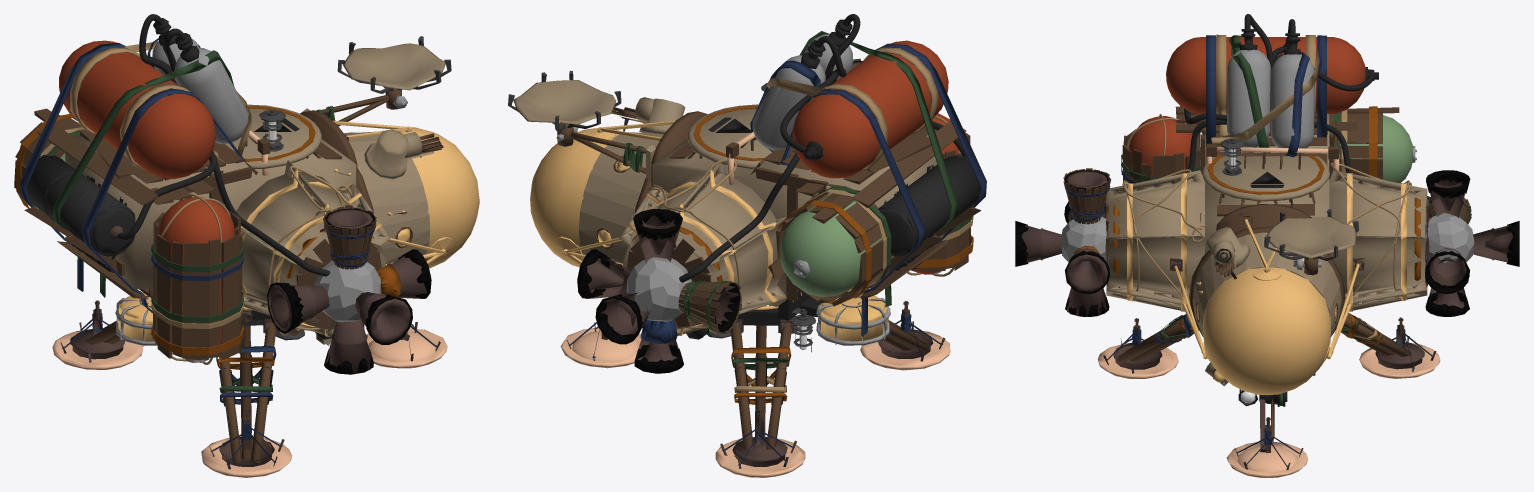
File: OWfbx.fbx
3 renders of one model, left to right at view 1: azimuth 30°, elevation 25°; view 2: azimuth 150°, elevation 25°; view 3: azimuth 270°, elevation 25°, orthographic. The views are drawn at different scales.
Parts seen in each view (by area): view 1: Torus.006, NurbsPath.001, NurbsPath, BezierCurve; view 2: Torus.006, NurbsPath.002, NurbsPath, BezierCurve.003, NurbsPath.001; view 3: Torus.006, NurbsPath, NurbsPath.002, BezierCurve, BezierCurve.003.
Boxes of the visible parts, x1=… form: Torus.006: x1=14, y1=18, x2=479, y2=477; NurbsPath.001: x1=117, y1=14, x2=216, y2=239; NurbsPath: x1=147, y1=55, x2=330, y2=276; BezierCurve: x1=289, y1=166, x2=356, y2=212; Torus.006: x1=508, y1=19, x2=986, y2=477; NurbsPath.002: x1=679, y1=14, x2=860, y2=282; NurbsPath: x1=780, y1=71, x2=837, y2=153; BezierCurve.003: x1=648, y1=159, x2=736, y2=212; NurbsPath.001: x1=814, y1=36, x2=967, y2=157; Torus.006: x1=1015, y1=29, x2=1519, y2=477; NurbsPath: x1=1105, y1=53, x2=1373, y2=202; NurbsPath.002: x1=1244, y1=14, x2=1432, y2=203; BezierCurve: x1=1122, y1=169, x2=1204, y2=295; BezierCurve.003: x1=1330, y1=162, x2=1411, y2=296.
Bounding box in the file's own units: 586 × 514 × 676.
